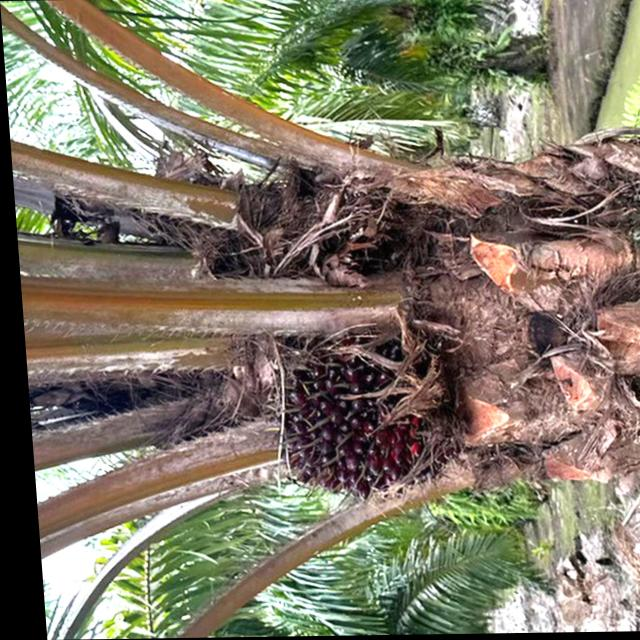ripe: (241, 309, 450, 515)
